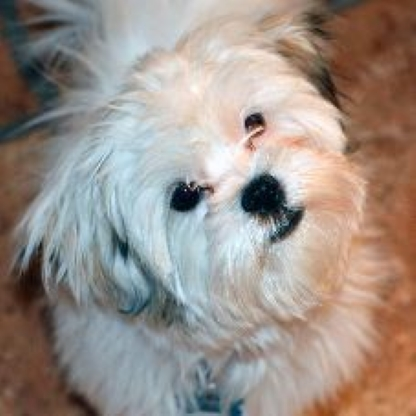maltese: (25, 2, 387, 412)
